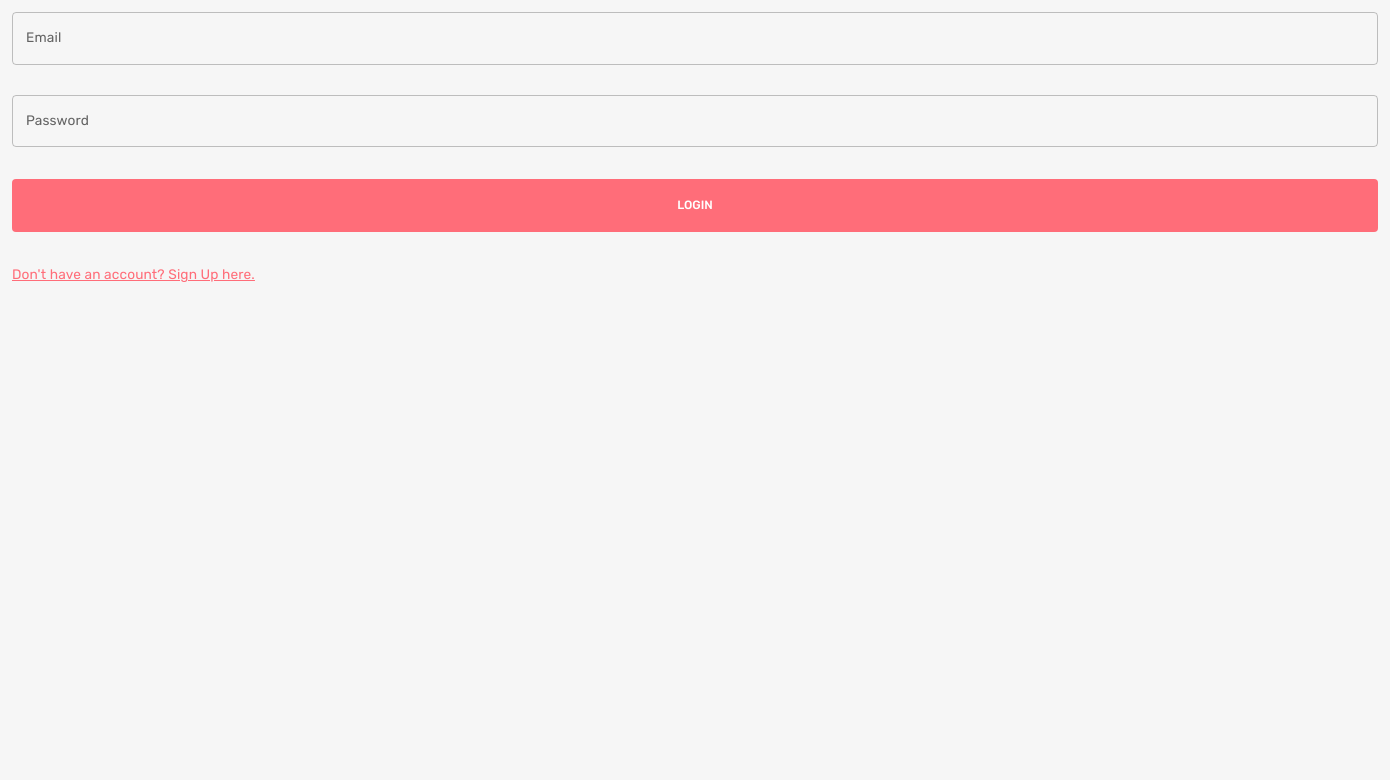
Test: Form › switches to the register form when "Sign Up" is clicked
Click the text "Don't have an account? Sign Up here.": (134, 274) [12, 266, 255, 282]
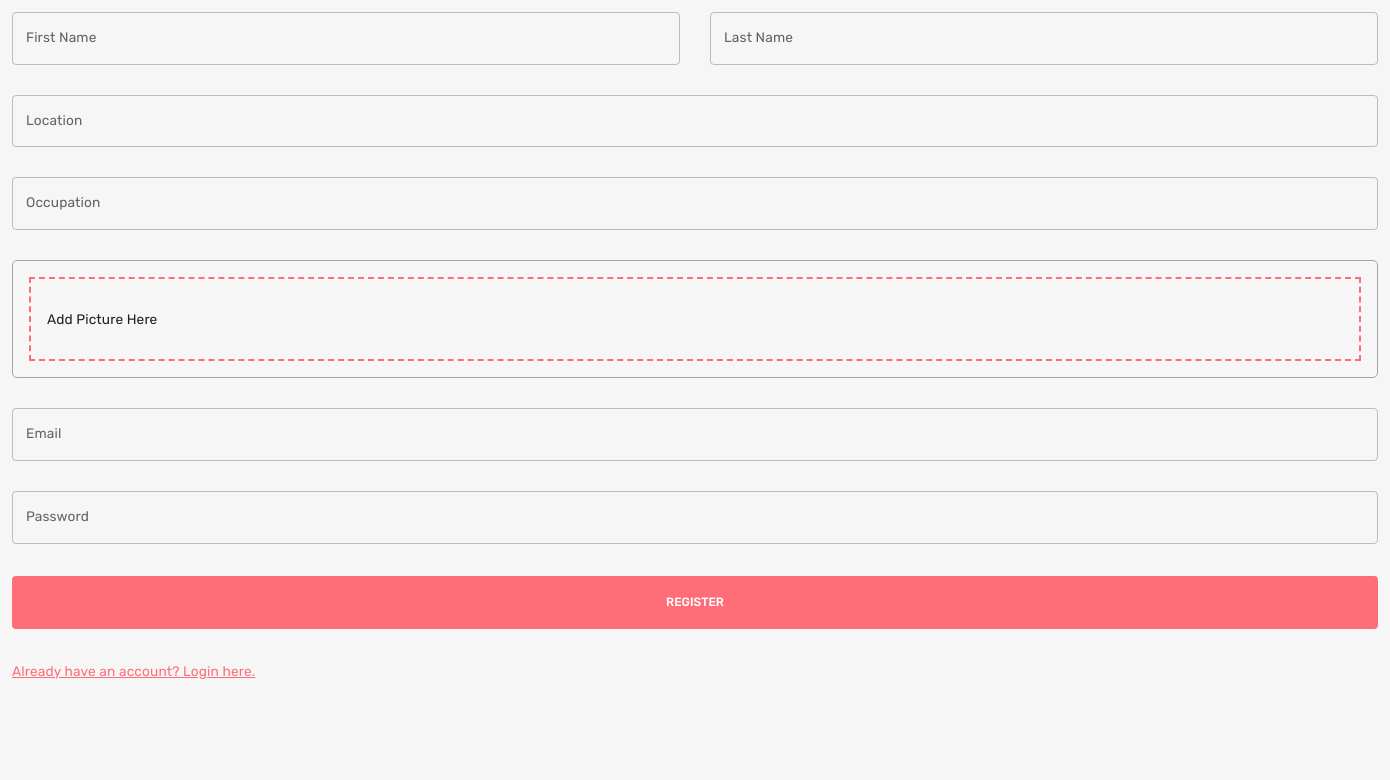
expect the button "REGISTER" is shown: met, box [12, 576, 1378, 628]
